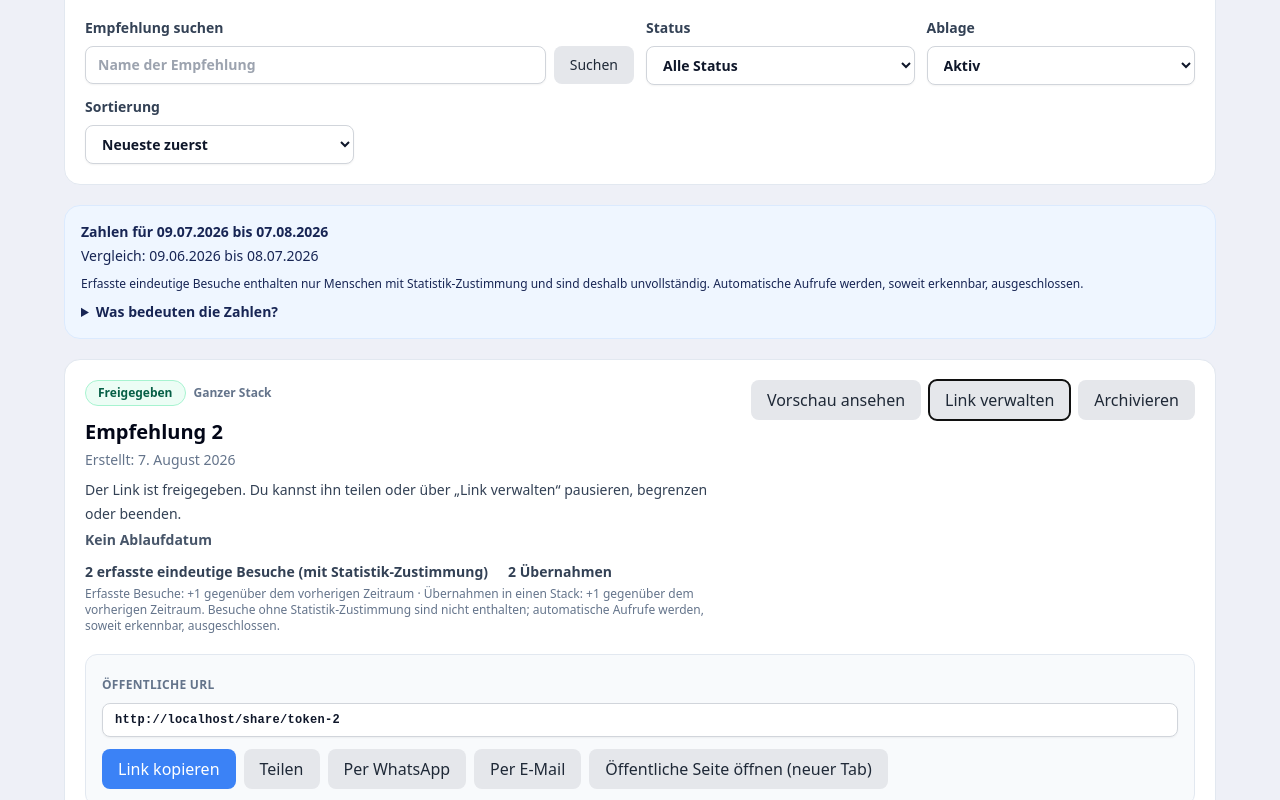
Test: CreatorSharingPage › offers a focus-trapped lifecycle dialog and returns focus after Escape and success
(page scrolled)
Click the button "Link verwalten".
click(1000, 400)  # box top-left (929, 380), bottom-right (1070, 420)
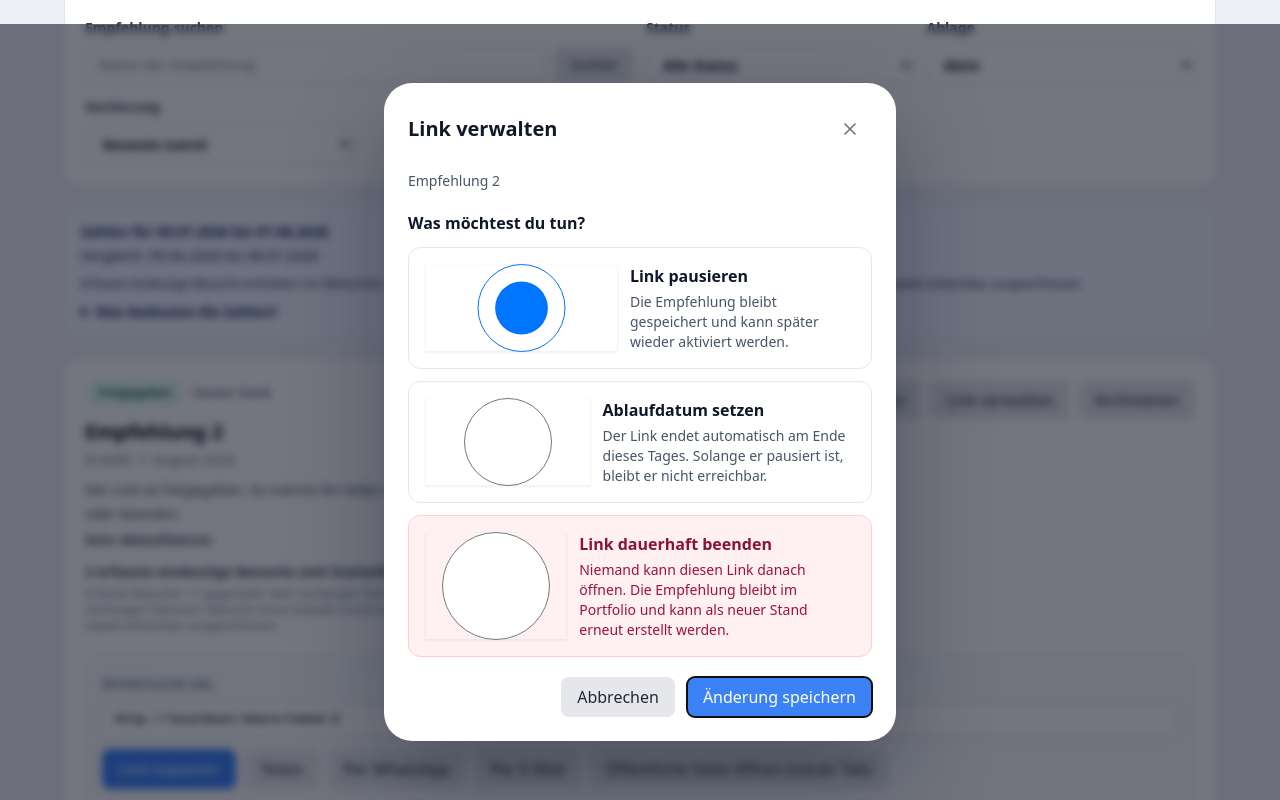
Result: the radio button labelled "Link pausieren" is shown at top-left (425, 264), bottom-right (618, 352)
Result: the radio button labelled "Ablaufdatum setzen" is shown at top-left (425, 398), bottom-right (591, 486)
Result: the radio button labelled "Link dauerhaft beenden" is shown at top-left (425, 532), bottom-right (567, 640)
Press Tab
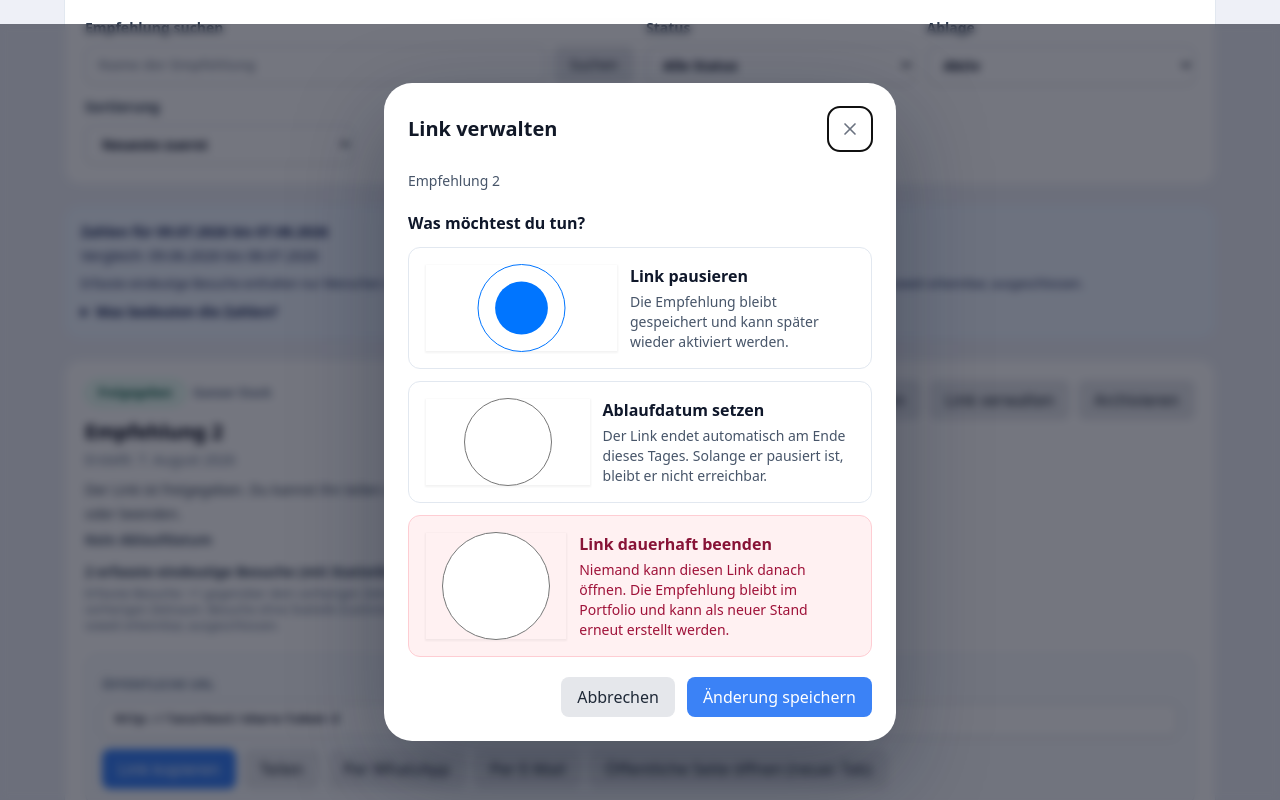
Press Tab
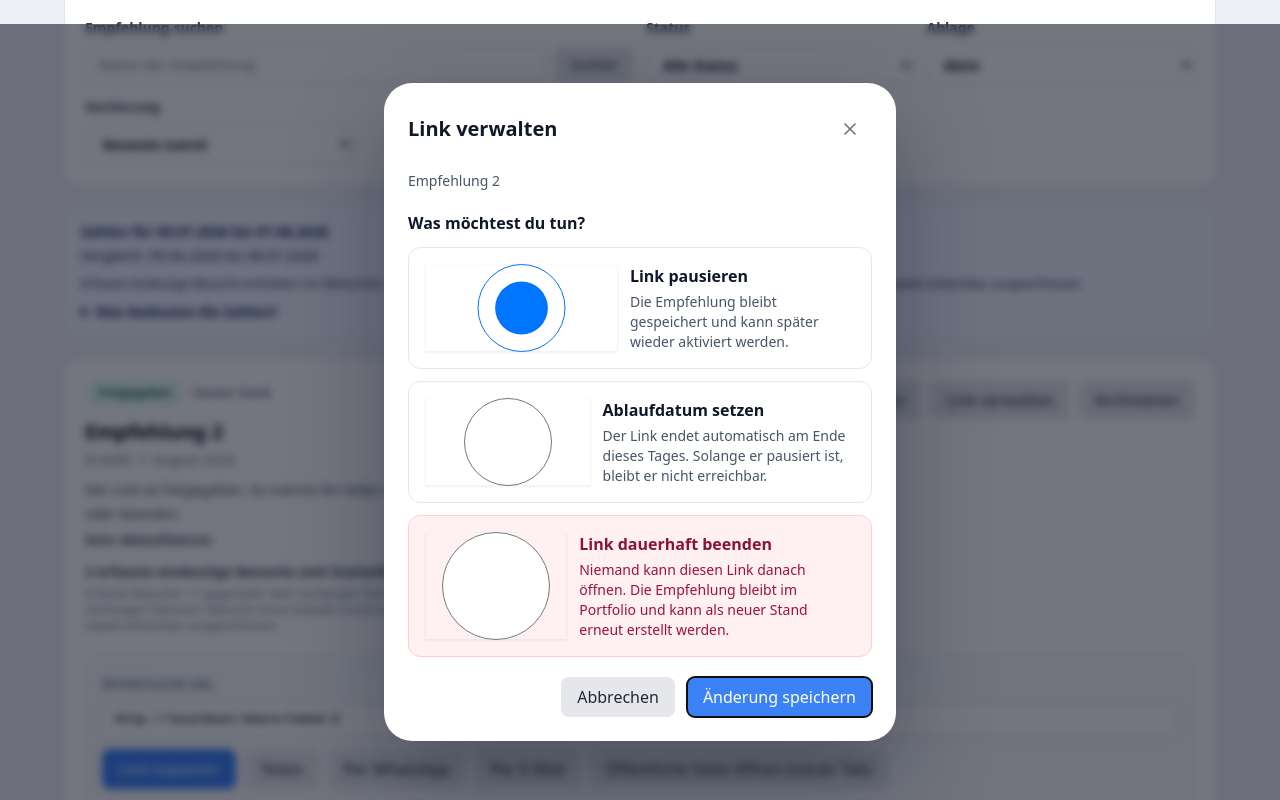
Press Escape
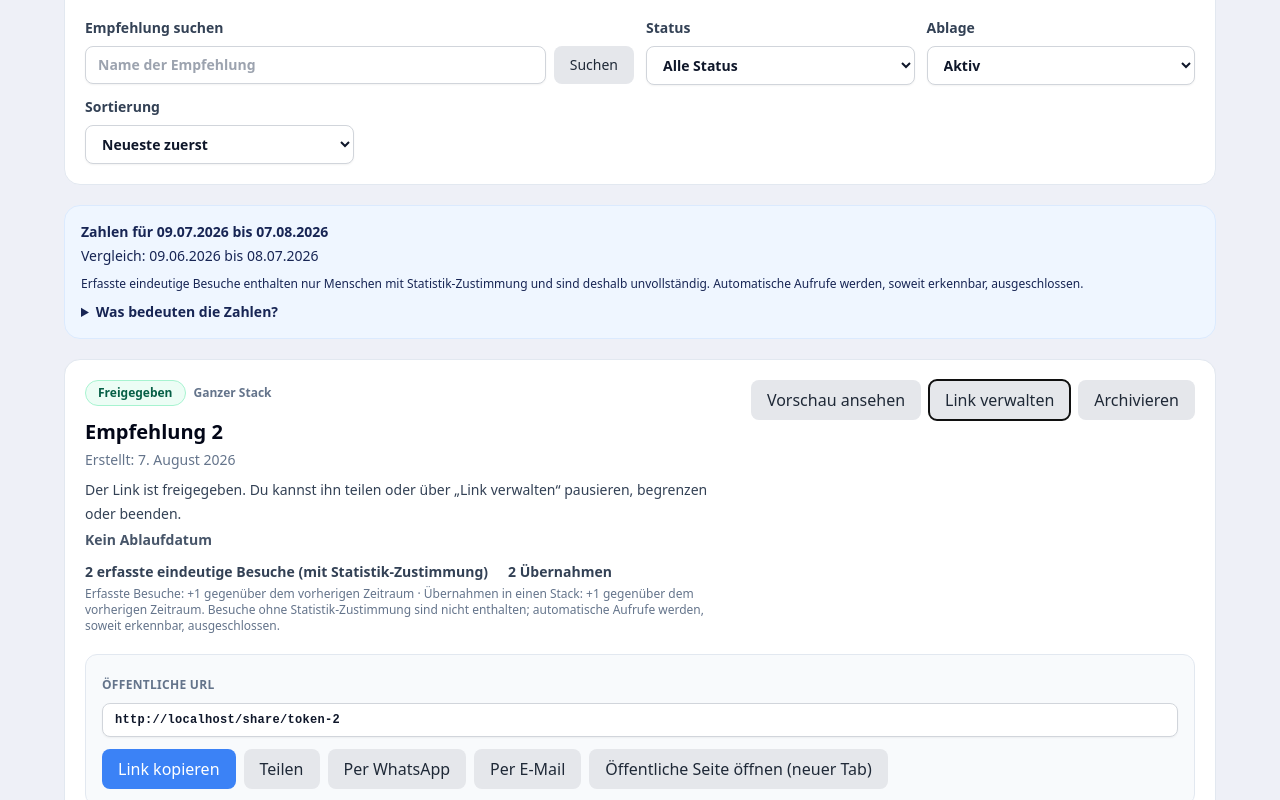
Result: the dialog is gone
Click the button "Link verwalten".
click(1000, 400)  # box top-left (929, 380), bottom-right (1070, 420)
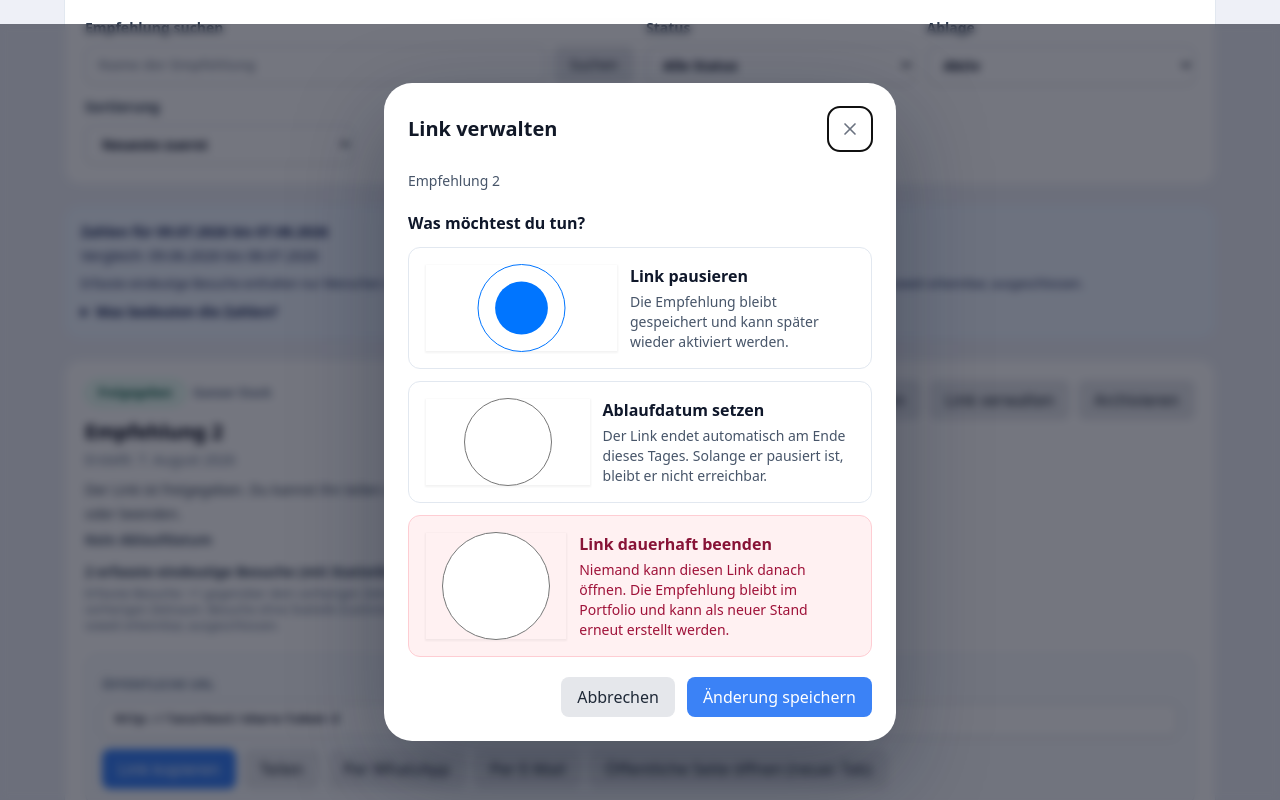
Click the button "Änderung speichern".
click(779, 697)  # box top-left (687, 677), bottom-right (872, 717)
(page scrolled)
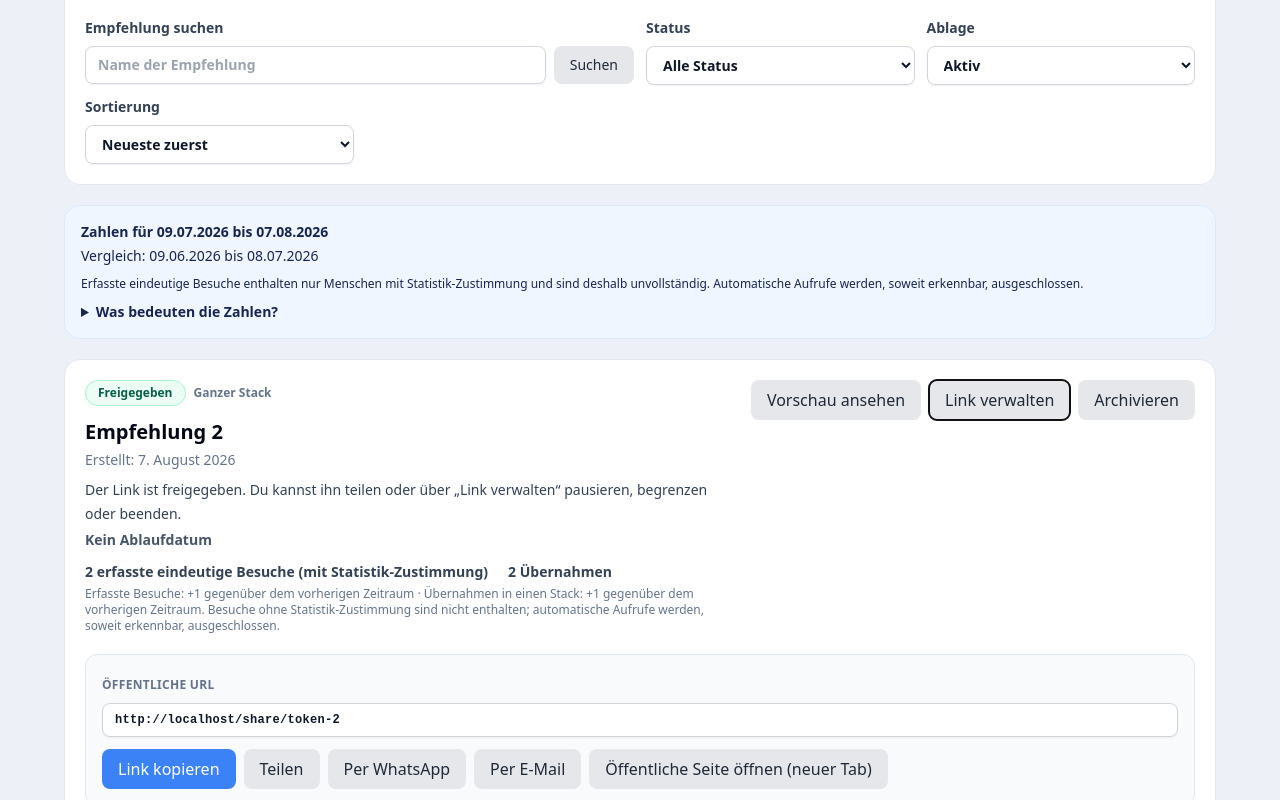
Result: the dialog is gone
